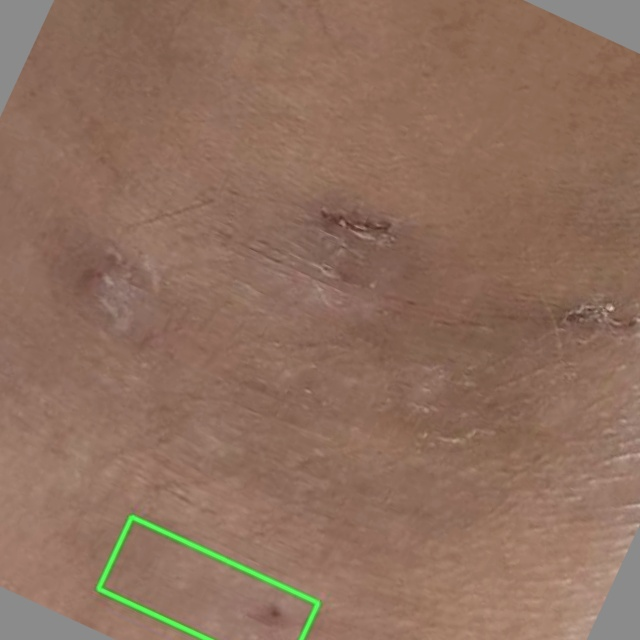Contact Dermatitis: (98, 516, 318, 639)
